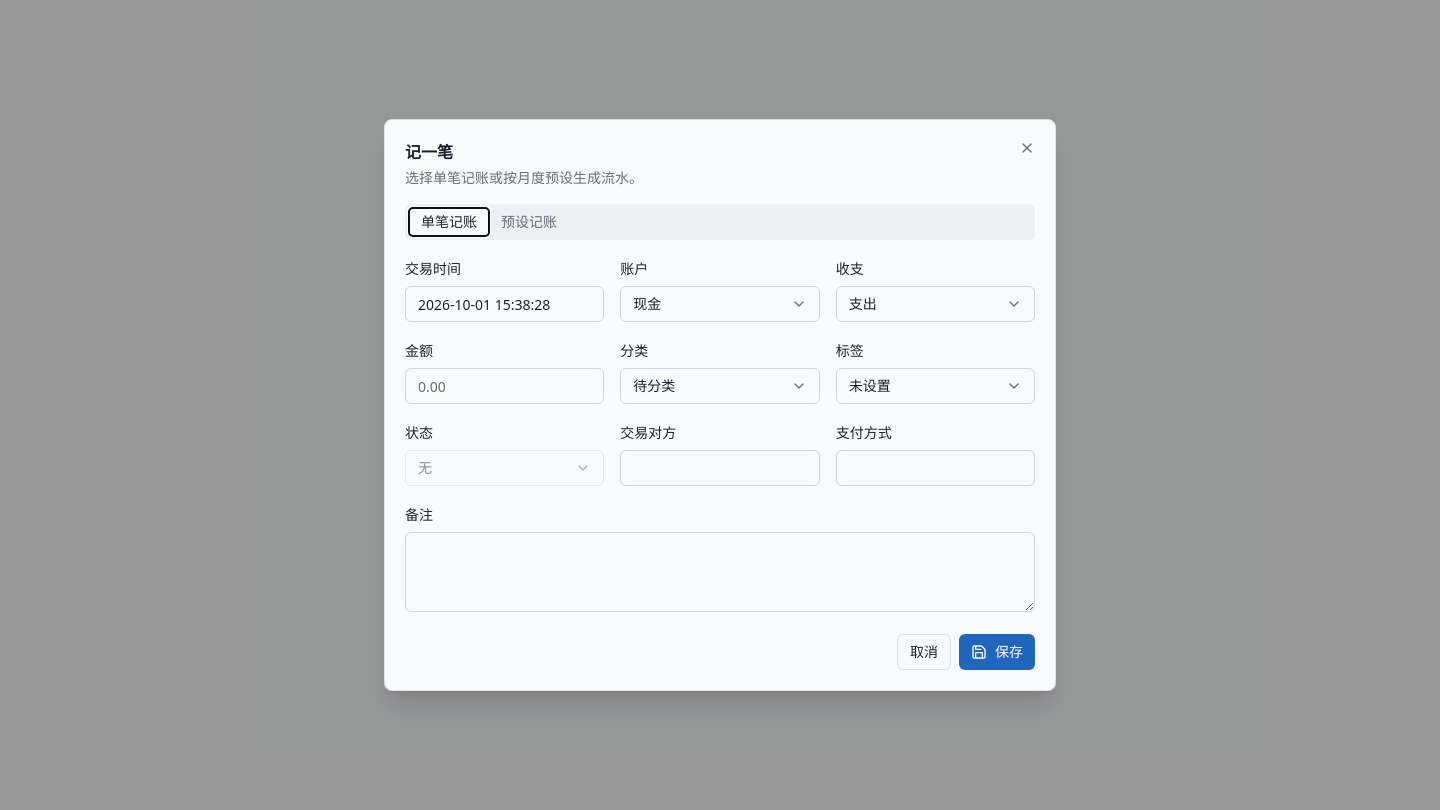
Scenario: EntryDialog › opens with single entry and switches to preset entry in the same dialog
Expected: the field named "交易时间" is shown, top-left (405, 286), bottom-right (604, 322)
Expected: the number of dialogs is 1, top-left (384, 119), bottom-right (1056, 691)
Press the mouse on the tab "预设记账" at (529, 222), box top-left (489, 208), bottom-right (569, 236)
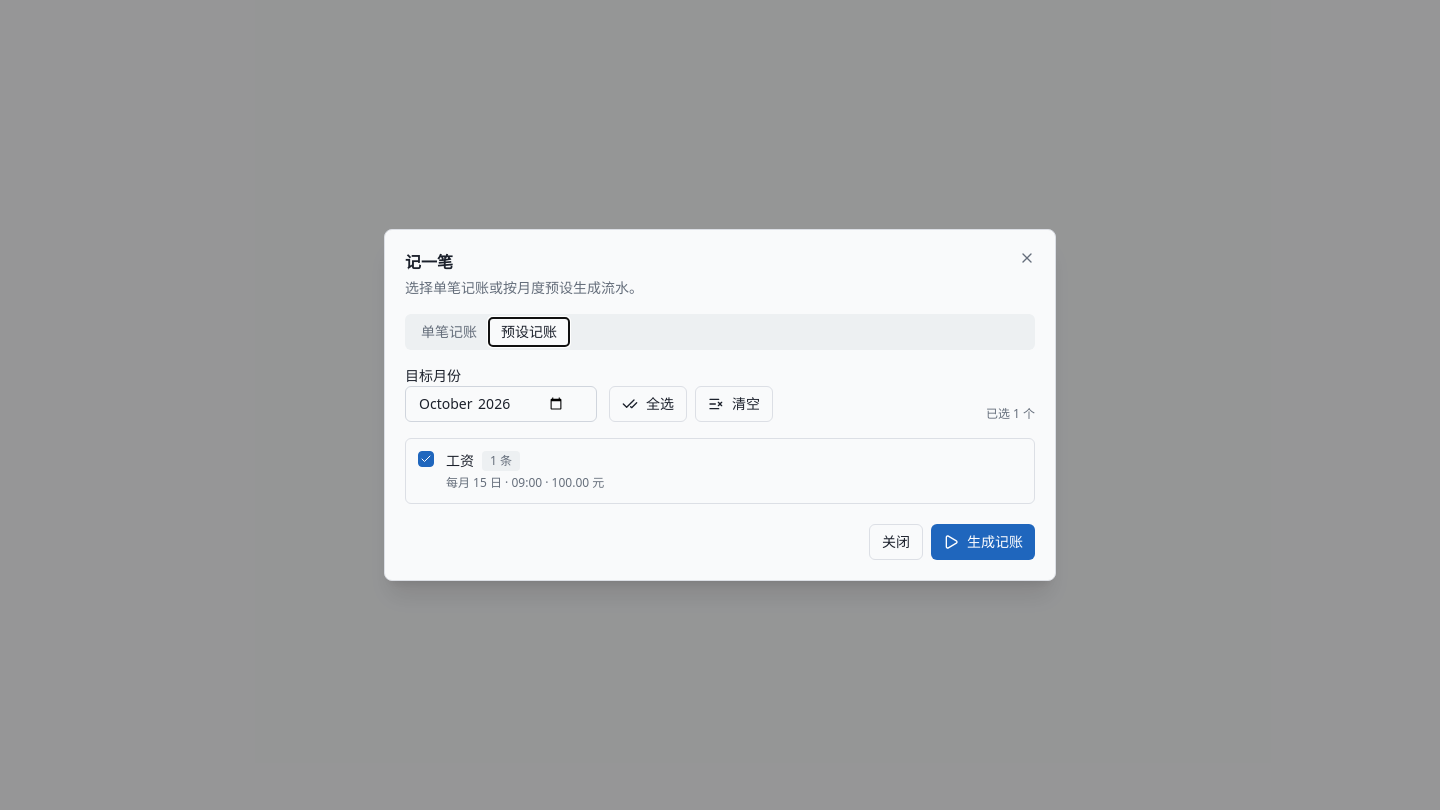
Expected: the number of dialogs is 1, top-left (384, 229), bottom-right (1056, 581)
Expected: the text "工资" is shown, top-left (446, 451), bottom-right (474, 470)
Expected: the field labelled "目标月份" holds "2026-10", top-left (405, 386), bottom-right (597, 422)
